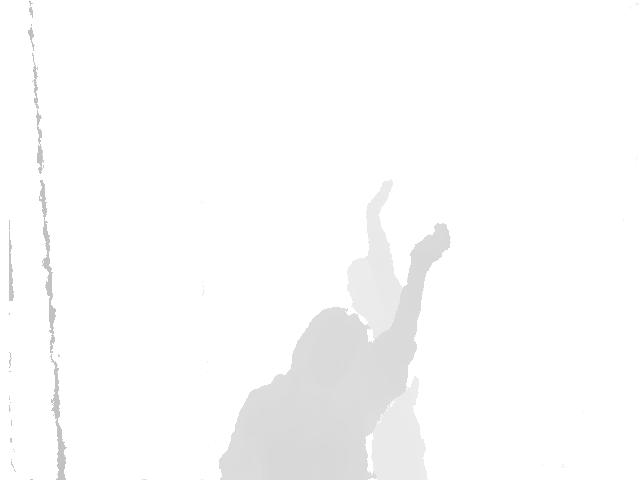hand: (407, 223, 451, 273), (364, 179, 392, 215)
head: (290, 305, 369, 391), (348, 258, 381, 313)
person: (216, 223, 451, 480), (346, 179, 429, 480)
